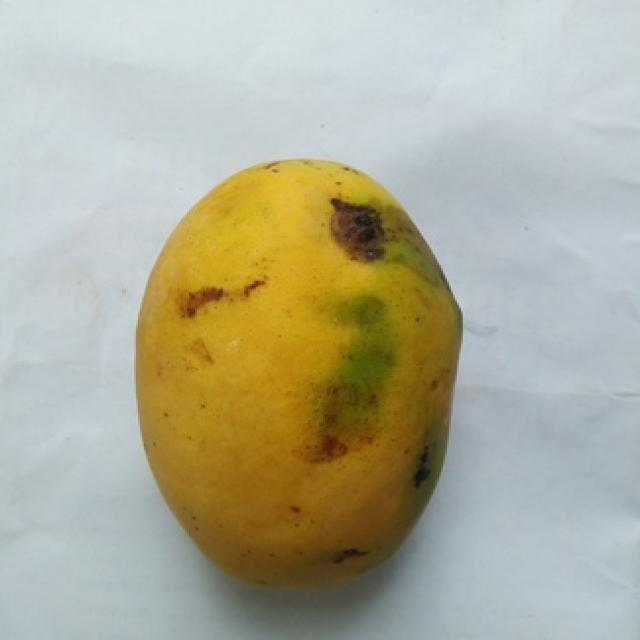Mango: (136, 160, 461, 586)
